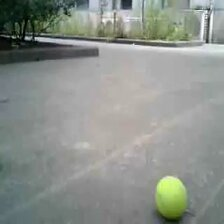tennis: (154, 177, 187, 219)
